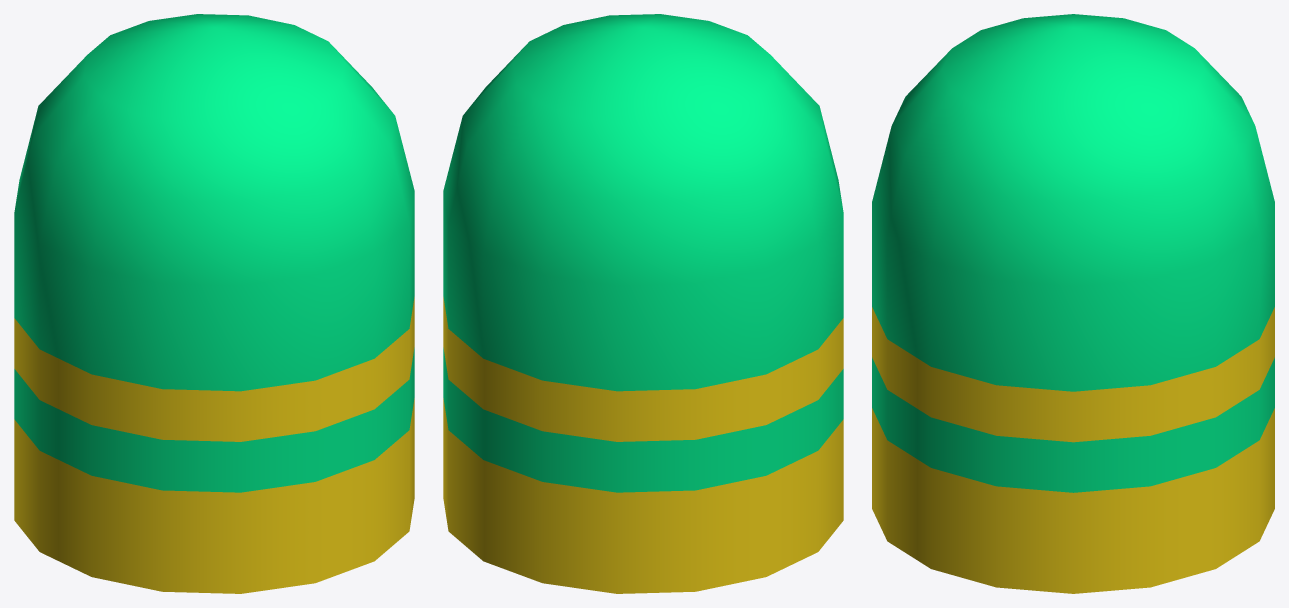
Rendered from Arm_Sleeve_L_03_L.fbx.
The picture shows the model from 3 angles, left to right: view 1: azimuth 30°, elevation 25°; view 2: azimuth 150°, elevation 25°; view 3: azimuth 270°, elevation 25°; orthographic projection.
Visible parts, largest first — view 1: Arm_Sleeve_L_03_L; view 2: Arm_Sleeve_L_03_L; view 3: Arm_Sleeve_L_03_L.
Part boxes in pixels (x1=…): Arm_Sleeve_L_03_L: x1=14, y1=14, x2=414, y2=593; Arm_Sleeve_L_03_L: x1=443, y1=14, x2=843, y2=593; Arm_Sleeve_L_03_L: x1=872, y1=14, x2=1274, y2=593.
Size of the model in its own units: 48.18 by 63.45 by 48.18.
